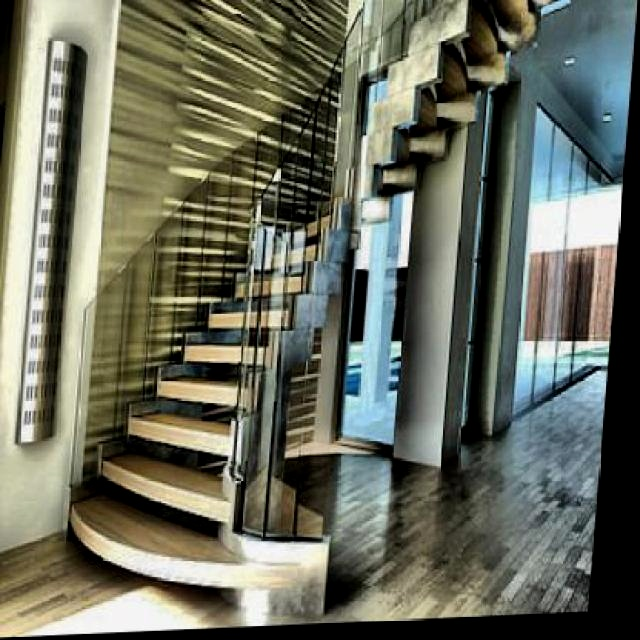stair: (72, 71, 360, 600)
